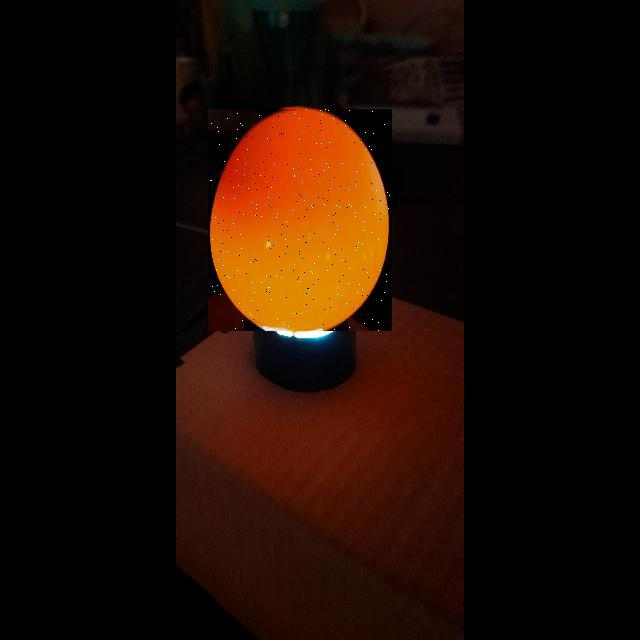Fertile: (208, 109, 392, 331)
